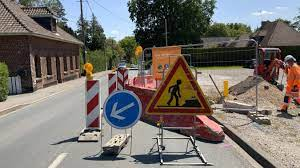obstacle: (144, 53, 214, 168), (101, 89, 144, 158), (80, 61, 103, 146), (104, 70, 118, 95), (116, 67, 124, 94)
